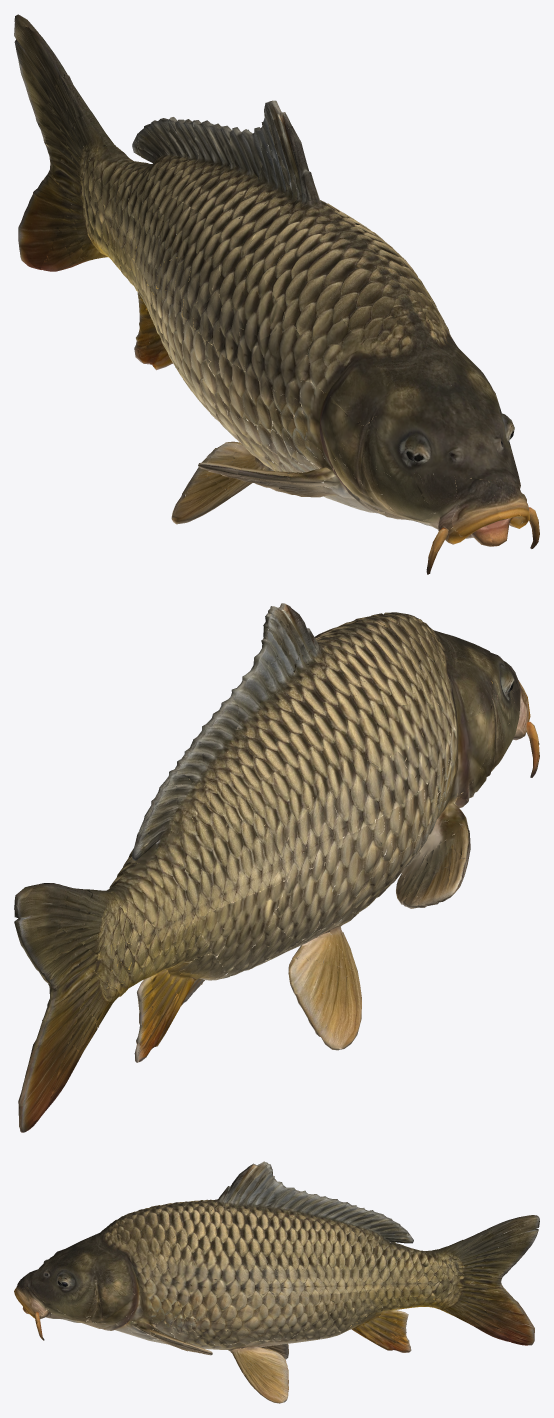
The model's file is karp.glb.
The picture shows the model from 3 angles, top to bottom: view 1: azimuth 30°, elevation 25°; view 2: azimuth 150°, elevation 25°; view 3: azimuth 270°, elevation 25°; orthographic projection. The views are drawn at different scales.
Visible parts, largest first — view 1: Mesh_0; view 2: Mesh_0; view 3: Mesh_0.
Part boxes in pixels (bbox=[...]): Mesh_0: bbox=[14, 14, 539, 574]; Mesh_0: bbox=[14, 603, 539, 1132]; Mesh_0: bbox=[14, 1161, 539, 1403].
Bounding box in the file's own units: 0.5754 × 0.8765 × 1.9.
Materials: 1 (1 with a texture image).
